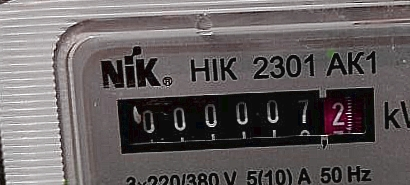0: (201, 99, 218, 128), (138, 106, 156, 133), (232, 98, 250, 125), (264, 96, 280, 125), (170, 103, 187, 130)
2: (329, 100, 346, 126)
7: (295, 95, 311, 125)
screen: (105, 80, 386, 158)
